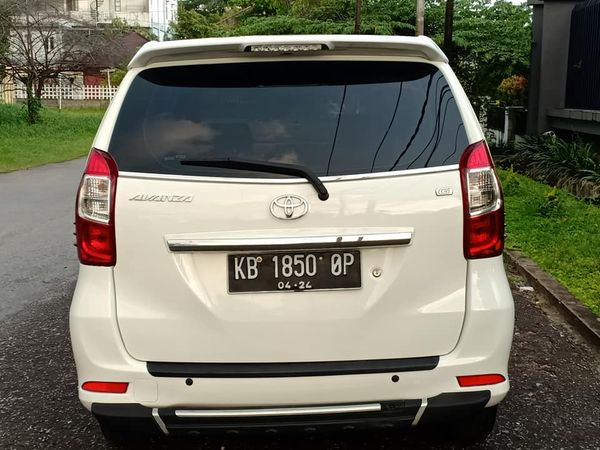plate: (224, 243, 364, 295)
